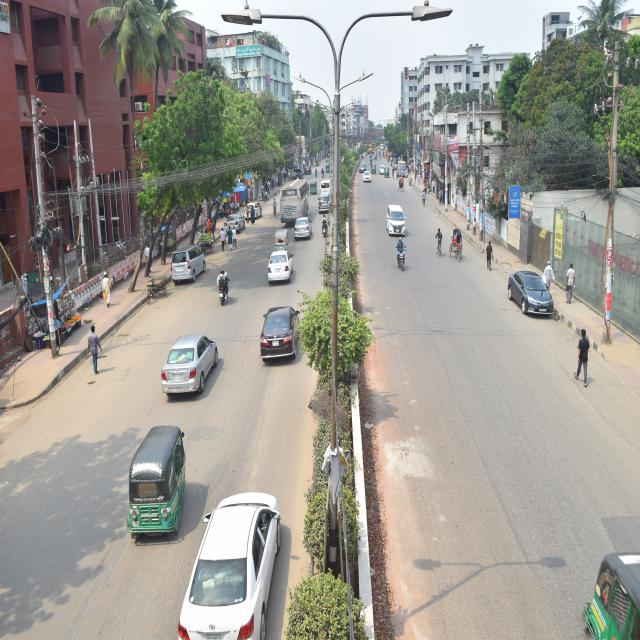bus: (280, 163, 306, 233), (398, 160, 408, 176)
car: (186, 482, 272, 618), (162, 326, 215, 406), (502, 260, 561, 329), (260, 302, 298, 365), (260, 246, 290, 299), (293, 209, 311, 251), (227, 209, 251, 236), (245, 196, 262, 220), (315, 192, 328, 212), (364, 168, 375, 190), (319, 170, 326, 196)
microbus: (164, 237, 204, 286), (384, 200, 410, 248)
motorbike: (215, 265, 238, 307), (392, 232, 410, 280), (317, 218, 329, 234)
